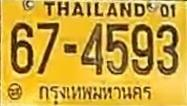3: (156, 24, 178, 74)
4: (80, 22, 102, 74)
5: (105, 22, 128, 74)
6: (10, 22, 32, 72)
7: (36, 21, 58, 73)
9: (131, 22, 153, 74)
BKK: (32, 79, 153, 106)
